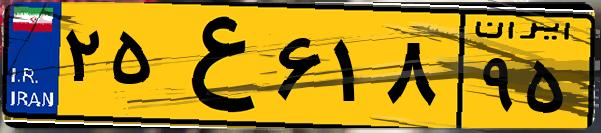1: (330, 28, 385, 110)
2: (57, 26, 110, 100)
5: (525, 38, 570, 115), (110, 28, 158, 98)
6: (270, 28, 330, 110)
8: (385, 28, 445, 110)
9: (475, 38, 525, 113)
ع: (158, 12, 270, 120)
